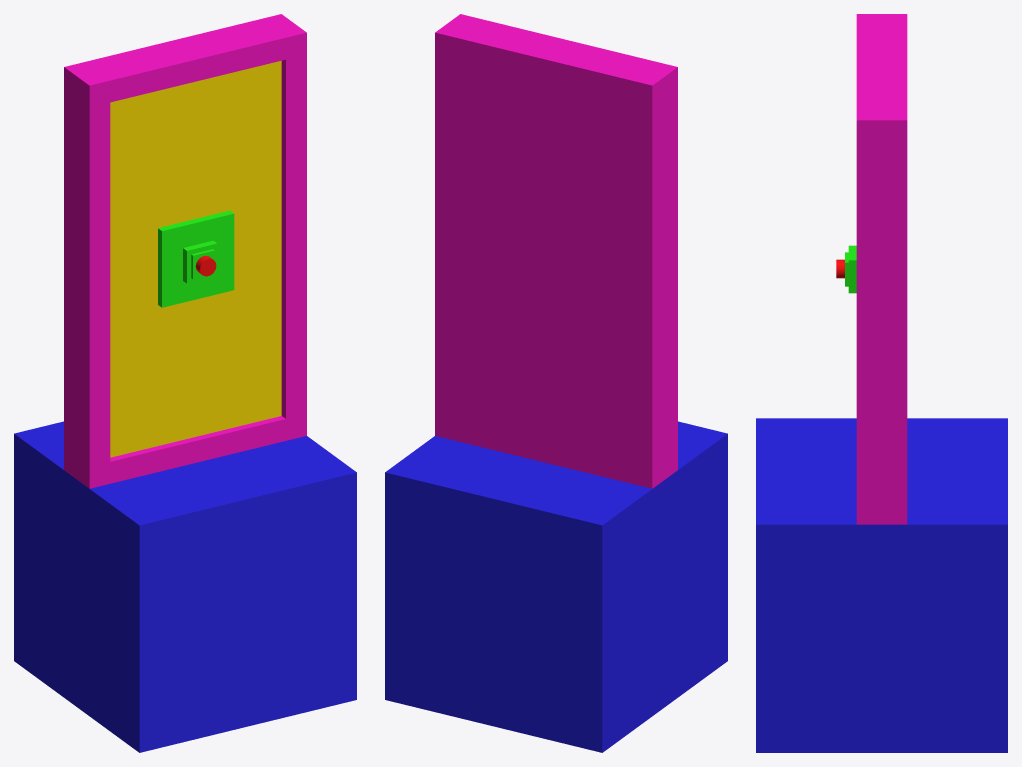
Rendered from Button.fbx.
The picture shows the model from 3 angles, left to right: view 1: azimuth 30°, elevation 25°; view 2: azimuth 150°, elevation 25°; view 3: azimuth 270°, elevation 25°; orthographic projection.
Parts seen in each view (by area): view 1: buttonwall_lowpoly, Box557; view 2: buttonwall_lowpoly, Box557; view 3: Box557, buttonwall_lowpoly.
Part boxes in pixels (box(x1,y1,x2,y2)): buttonwall_lowpoly: box(64, 14, 306, 488); Box557: box(14, 421, 356, 752); buttonwall_lowpoly: box(435, 14, 677, 488); Box557: box(385, 421, 727, 752); Box557: box(756, 418, 1007, 752); buttonwall_lowpoly: box(845, 14, 907, 524).
Size of the model in its own units: 39.5 by 109 by 39.5.
